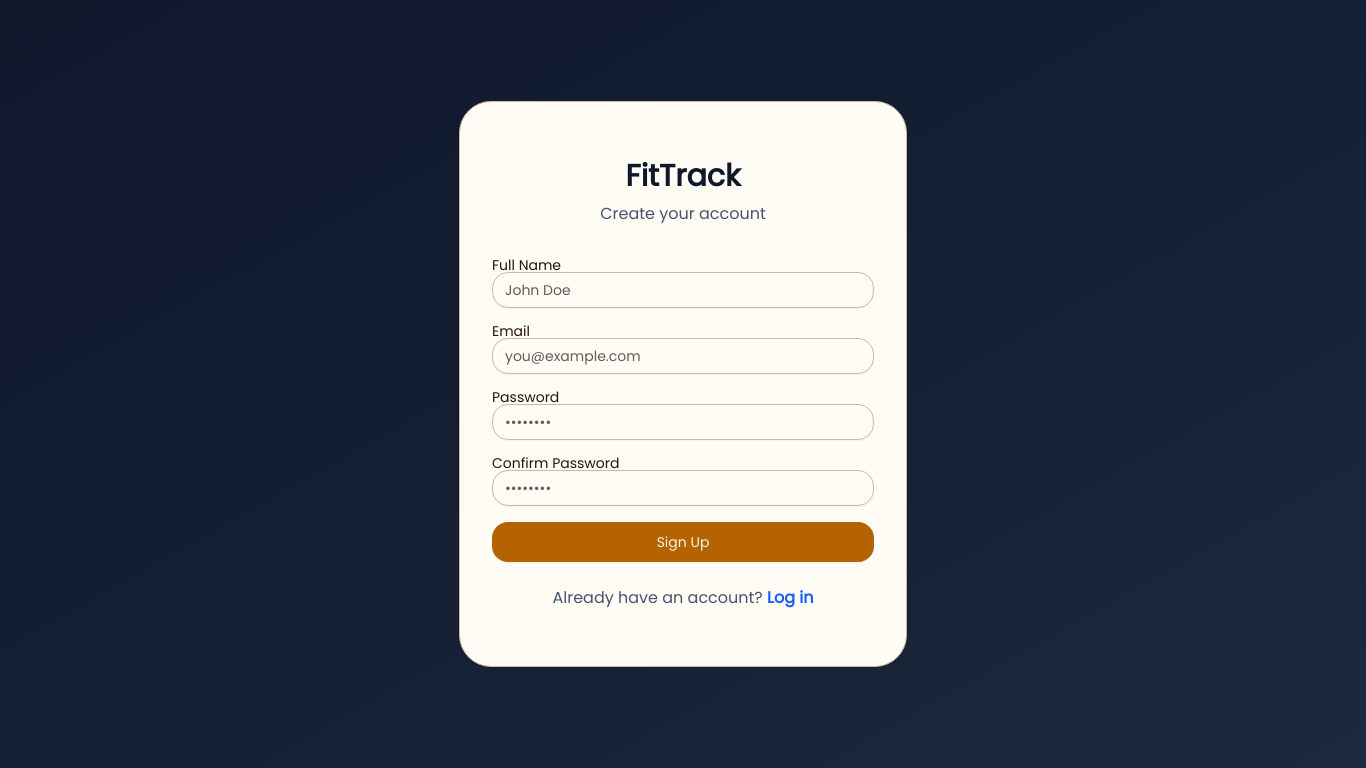
it: SignupView › disables submit button while signing up
Step 1. Type "Test User" into the field labelled "Full Name" → (683, 290), box [492,272,874,308]
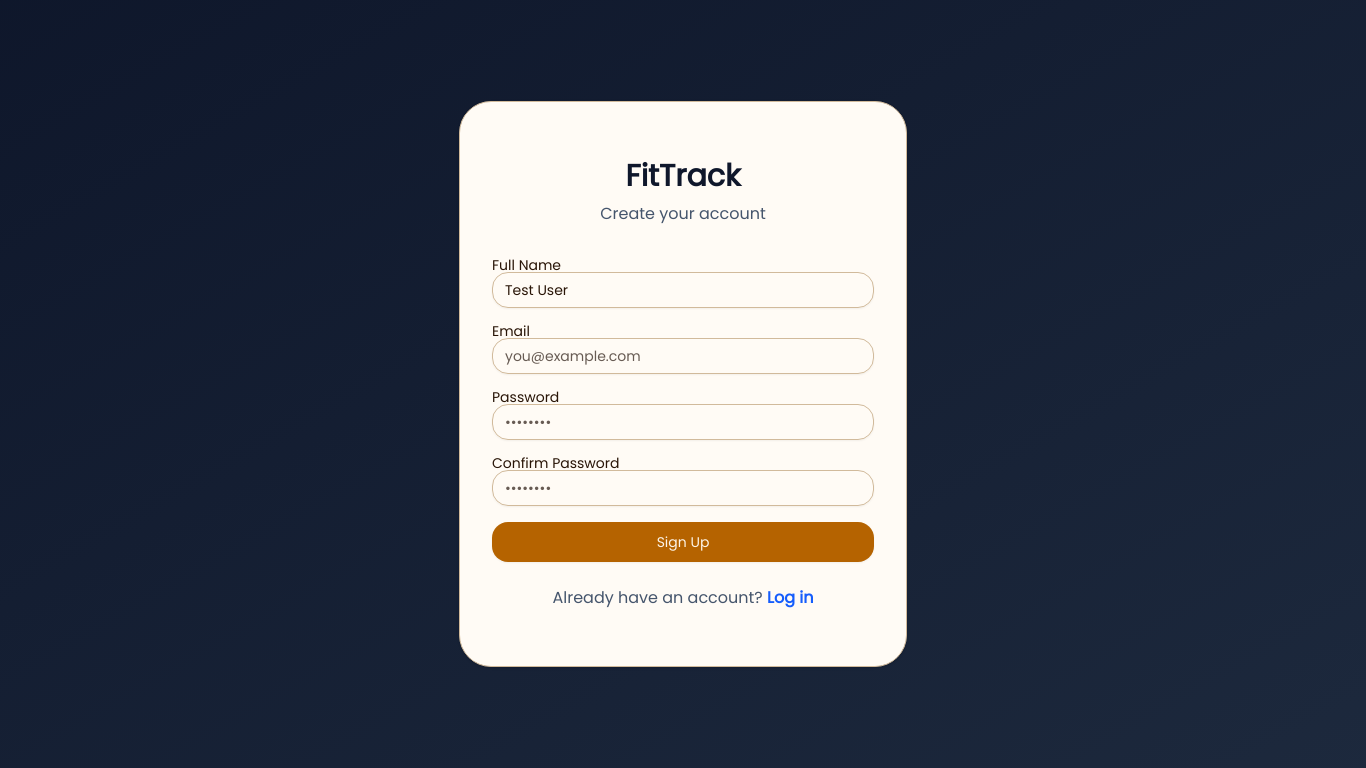
Step 2. Type "test@example.com" into the field labelled "Email" → (683, 356), box [492,338,874,374]
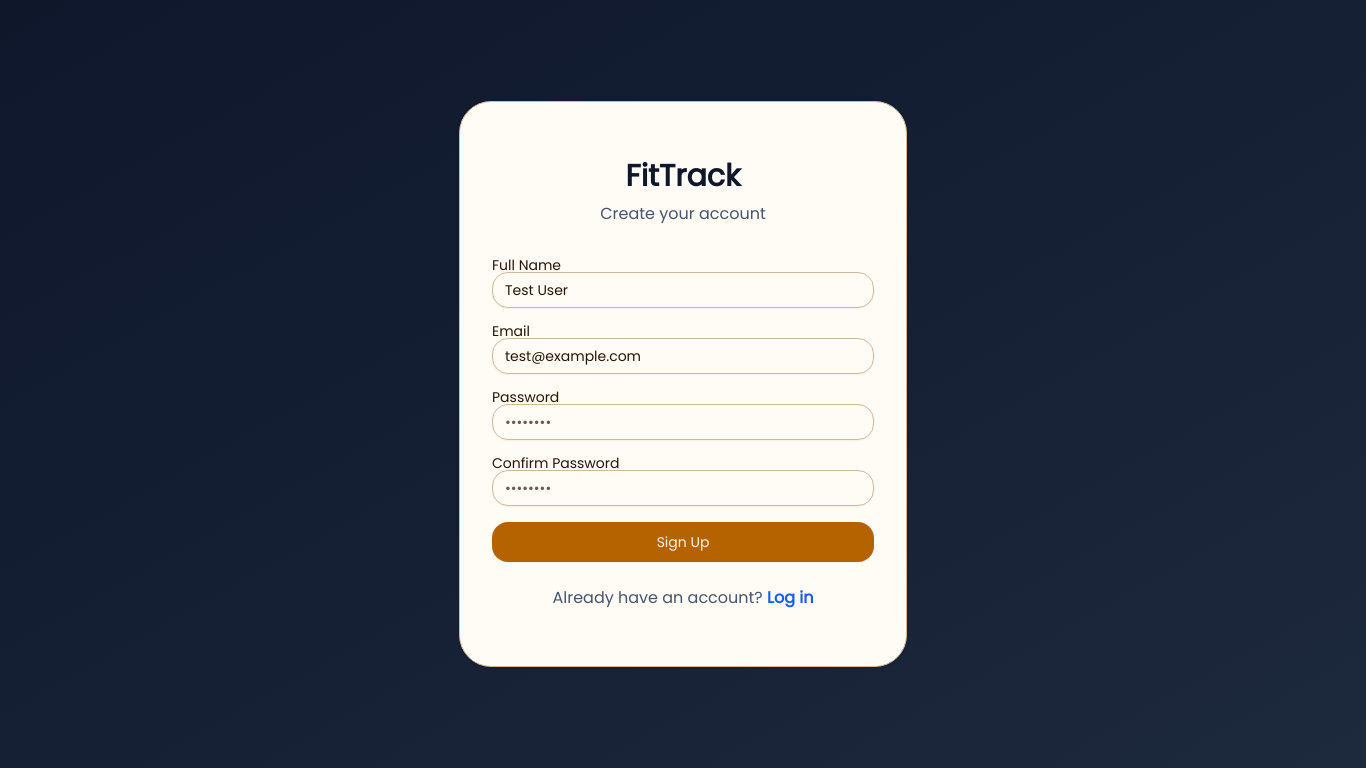
Step 3. Type "password123" into the password field labelled "Password" → (683, 422), box [492,404,874,440]
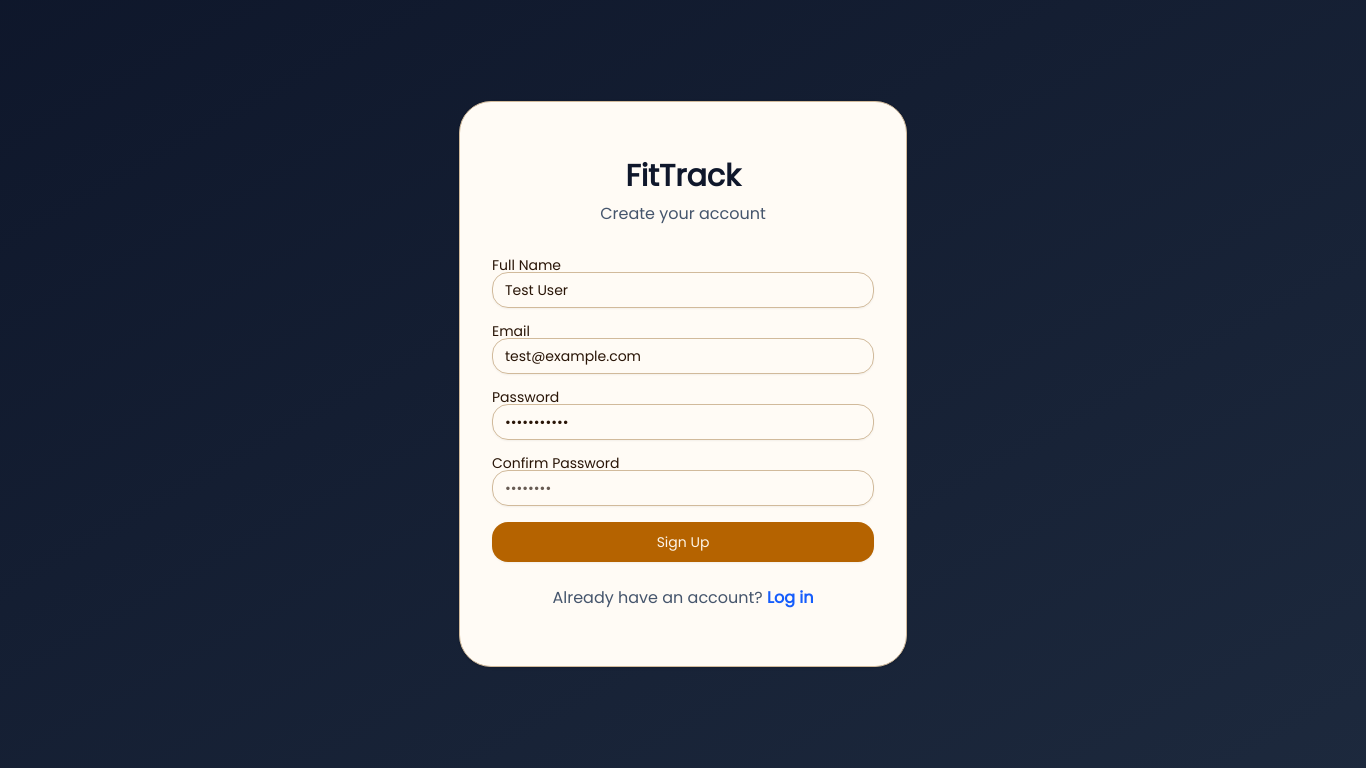
Step 4. Type "password123" into the password field labelled "Confirm Password" → (683, 488), box [492,470,874,506]
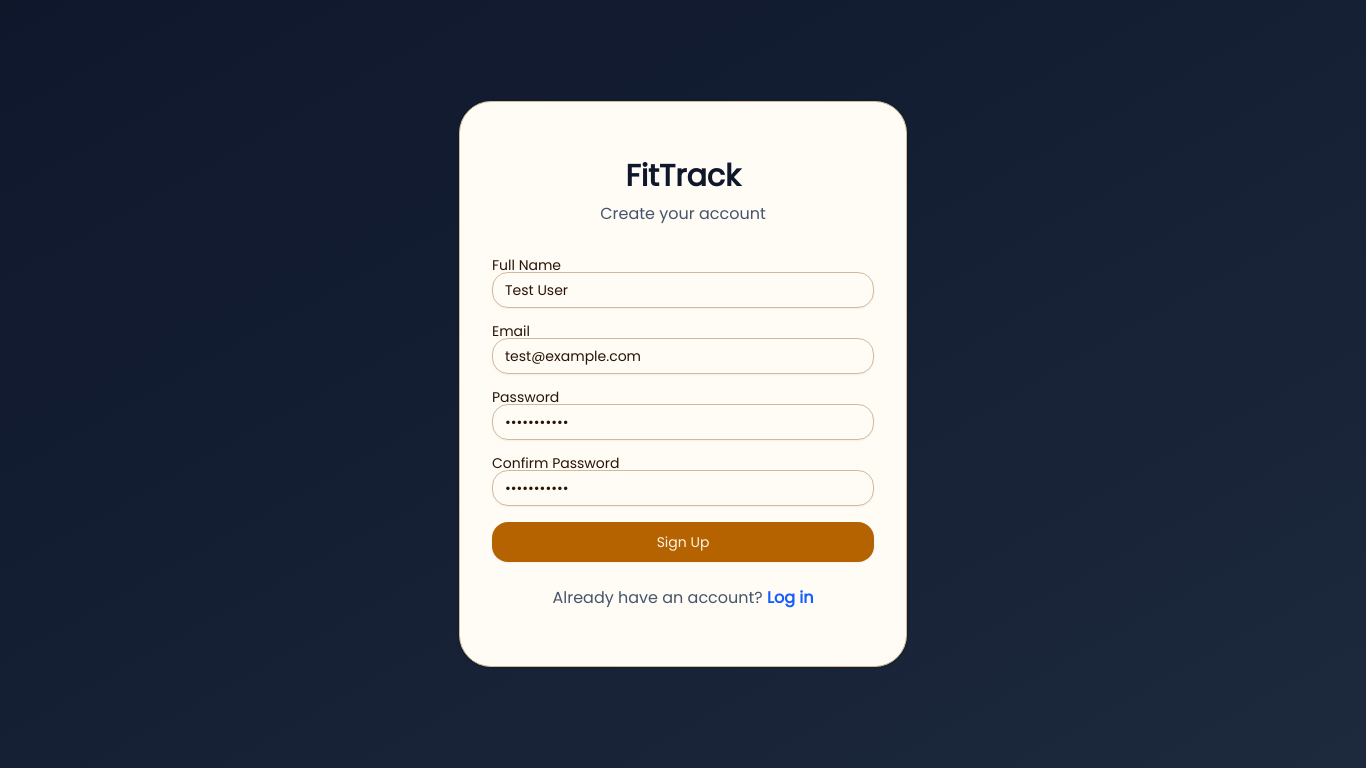
Step 5. Click the button "Sign Up" → (683, 542), box [492,522,874,562]
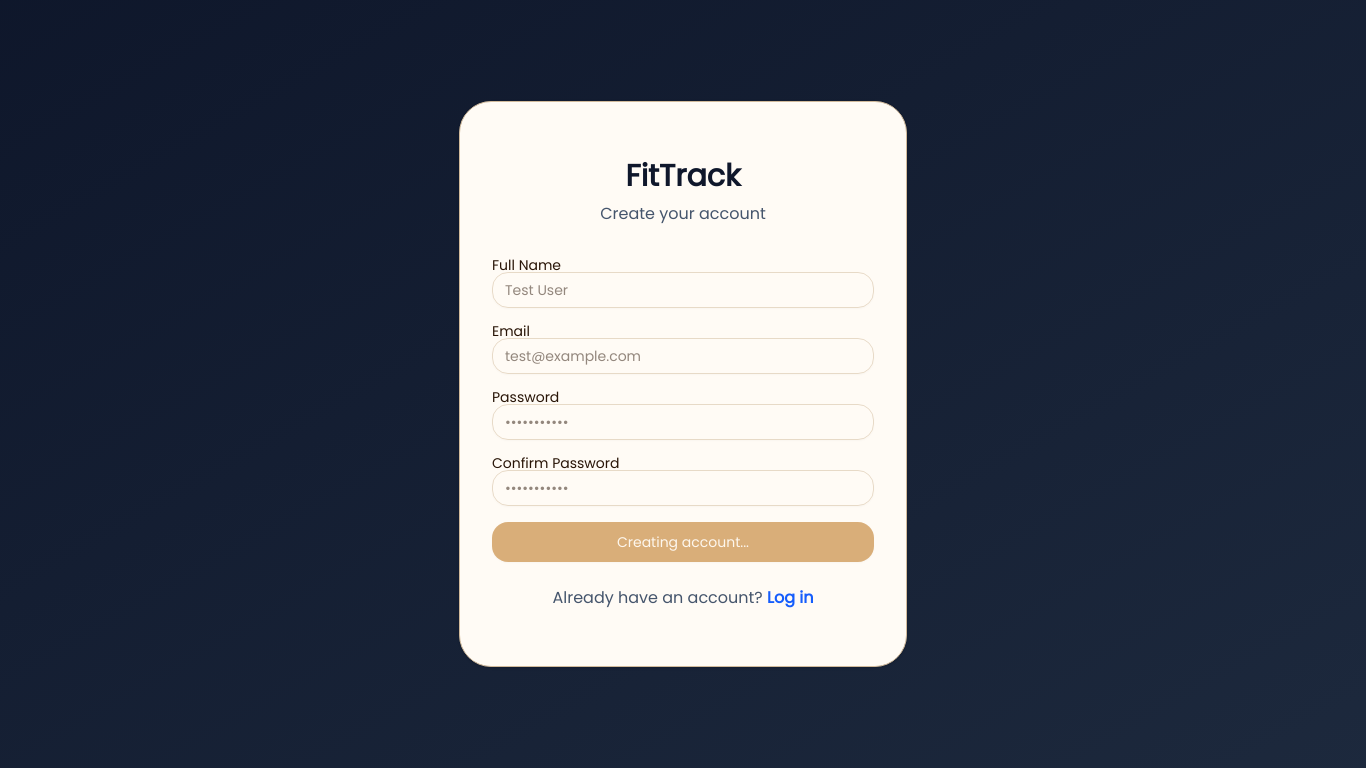
Expected: the button named "sign up" is disabled, [492,522,874,562]
